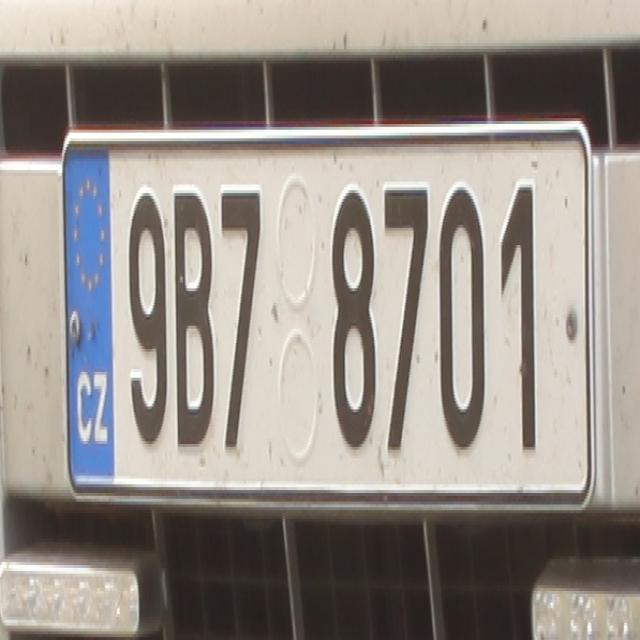0: (437, 185, 487, 442)
1: (498, 176, 538, 450)
7: (382, 173, 428, 453), (216, 176, 260, 450)
8: (329, 182, 375, 446)
9: (124, 184, 168, 444)
B: (172, 179, 214, 447)
